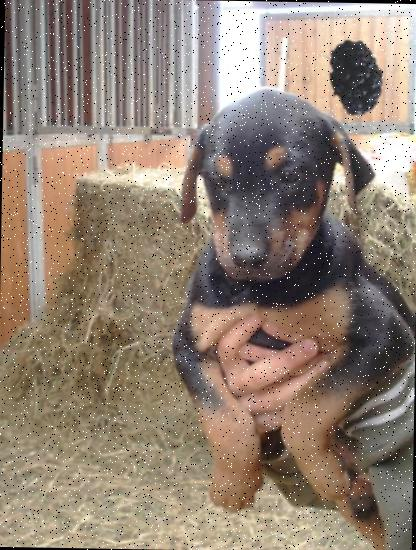Mulberry: (320, 35, 410, 124)
